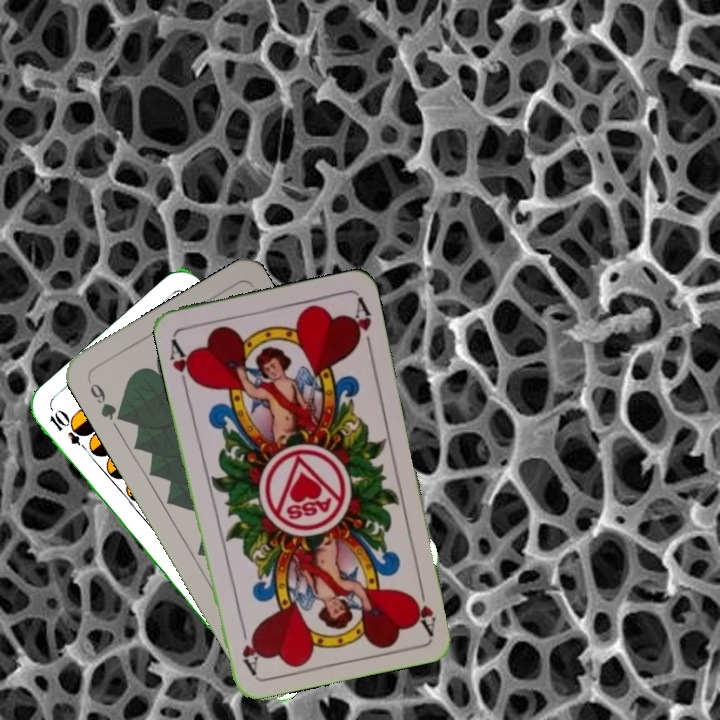E10: (45, 406, 94, 456)
G9: (83, 375, 127, 424)
HA: (406, 577, 438, 636), (166, 334, 199, 391)
